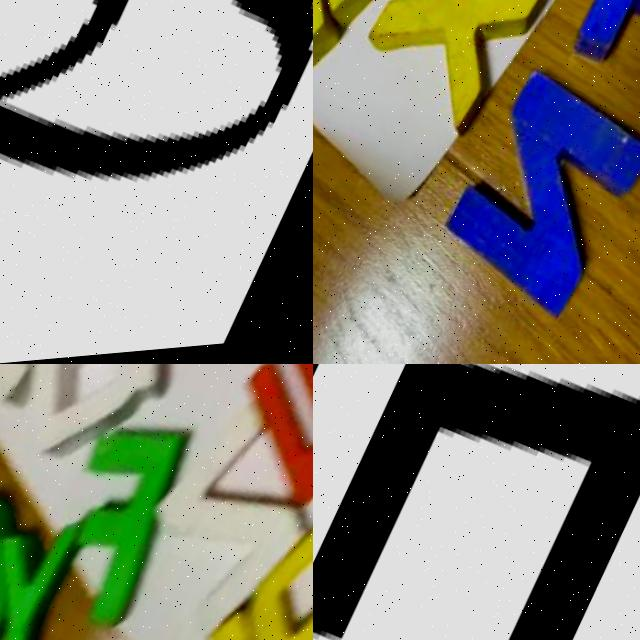9: (0, 0, 313, 302)
F: (313, 364, 640, 640), (19, 410, 209, 640)
N: (426, 69, 640, 322)
Q: (0, 364, 194, 498)
R: (195, 496, 313, 640), (313, 0, 471, 58)
T: (553, 0, 640, 137)
W: (204, 364, 313, 538)
X: (341, 0, 573, 156)
Y: (0, 502, 99, 640)
Z: (112, 410, 313, 640)
